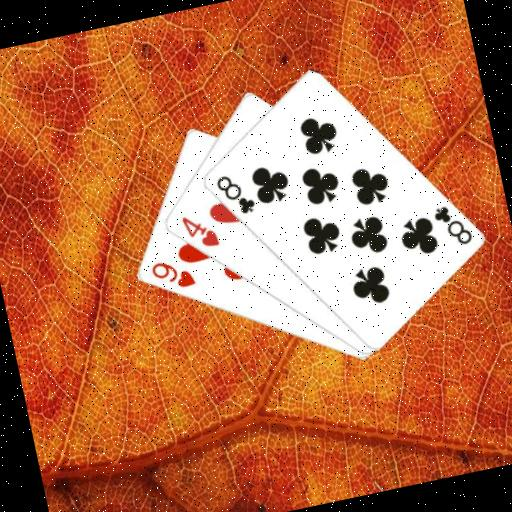4H: (176, 207, 221, 254)
8C: (211, 166, 258, 220), (428, 197, 475, 251)
9H: (145, 252, 197, 296)
